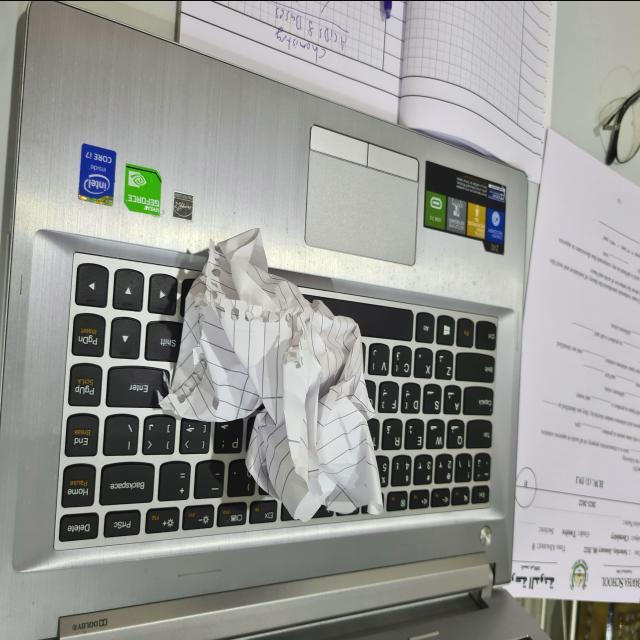Paper: (142, 219, 404, 540)
